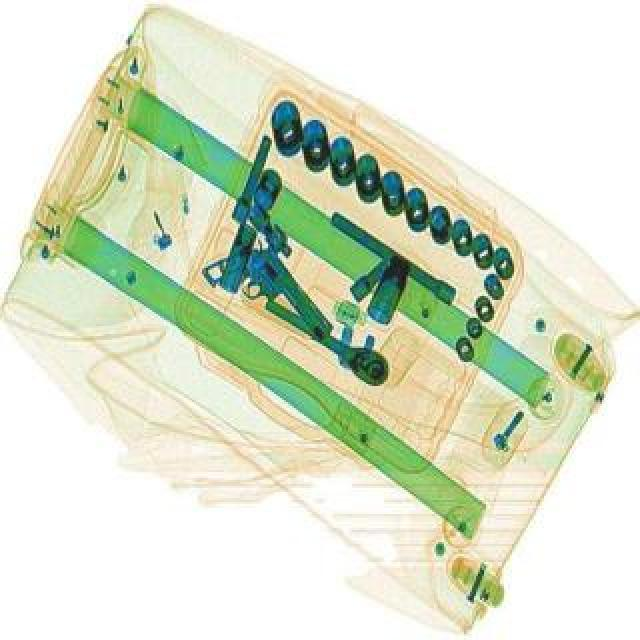gun: (196, 230, 332, 368)
